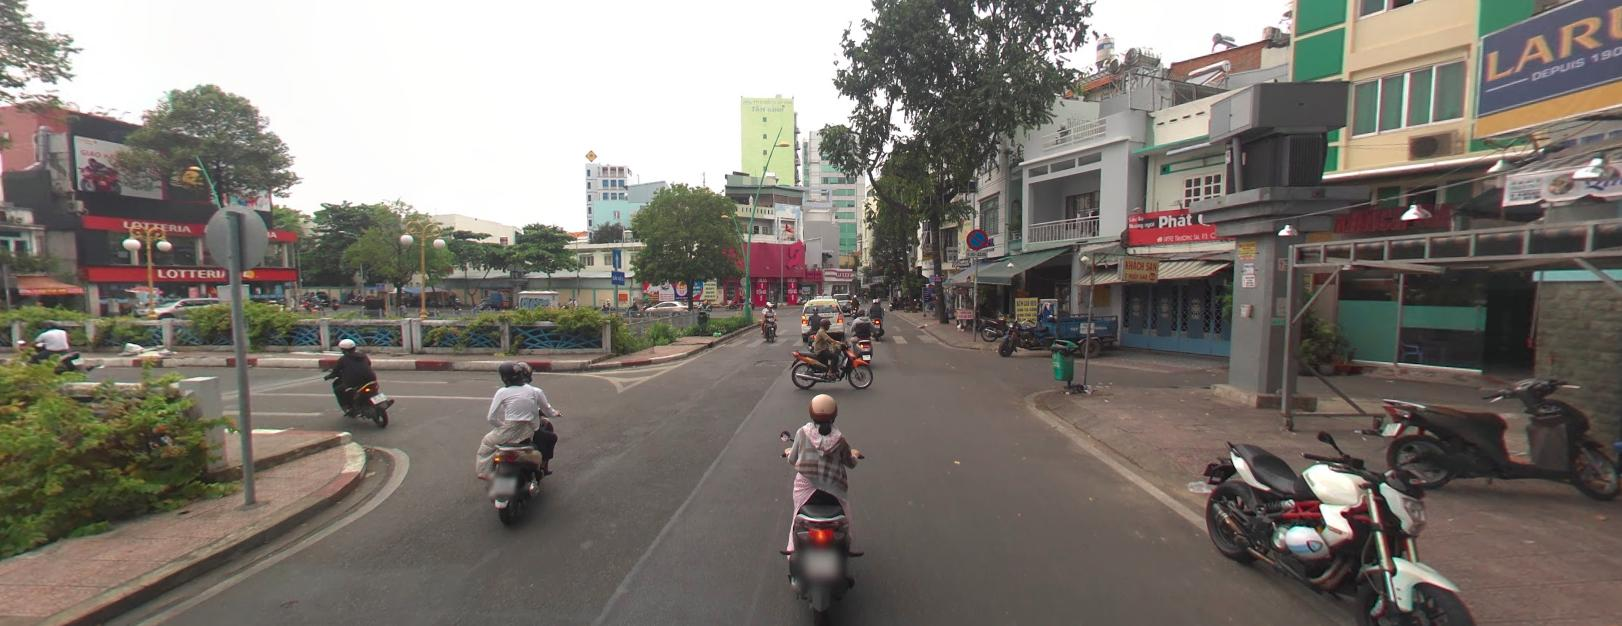Cam dung va do: (966, 227, 987, 248)
